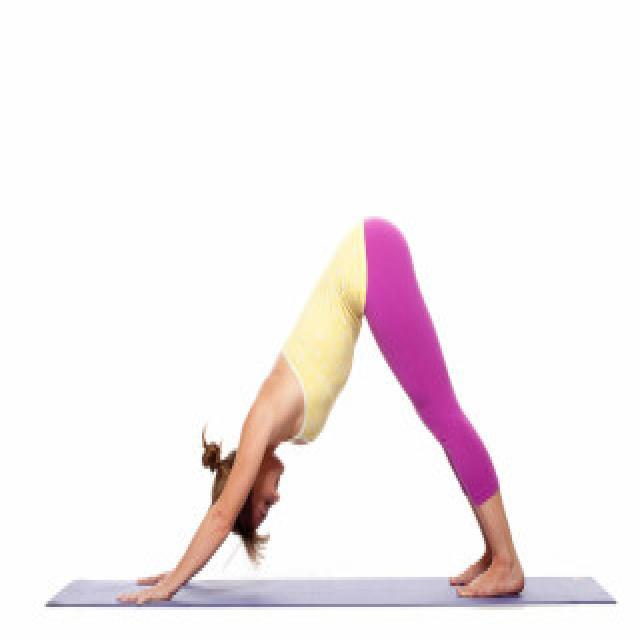yoga-pose downward: (118, 215, 530, 614)
